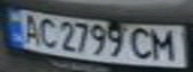2: (54, 18, 75, 52)
7: (72, 20, 90, 54)
9: (106, 22, 130, 58), (87, 21, 109, 56)
A: (15, 11, 42, 45)
C: (127, 25, 160, 61), (33, 16, 60, 48)
M: (148, 26, 184, 62)
